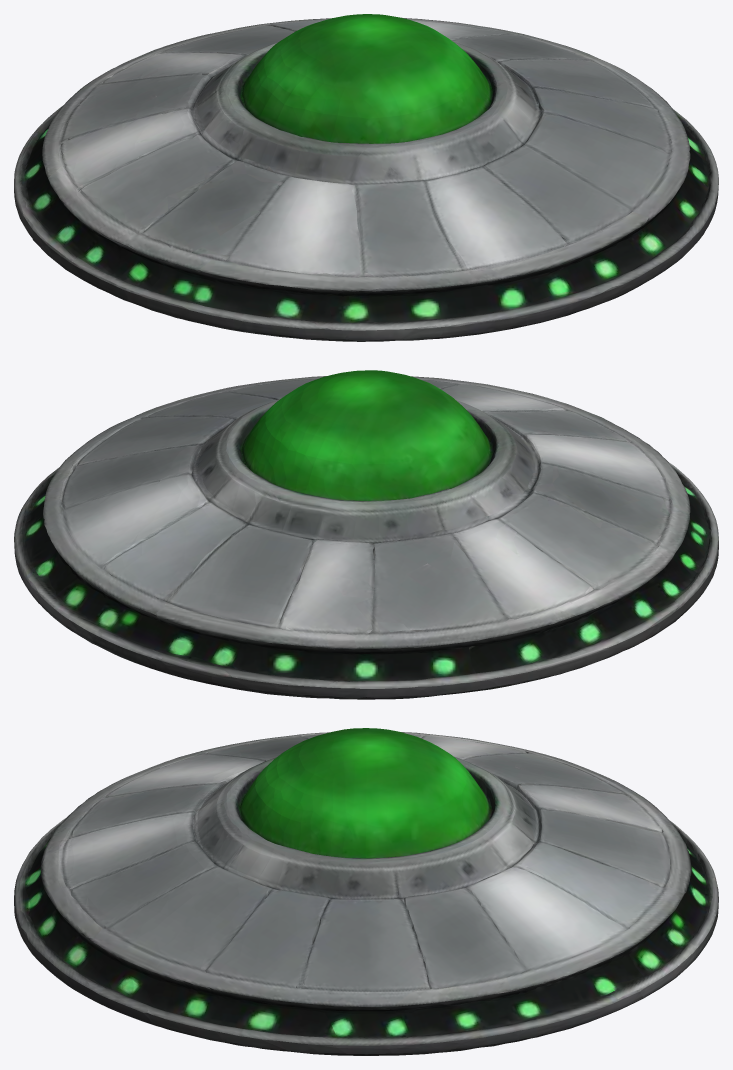
The model's file is ufo.glb.
3 views of the same model, one above another, from view 1: azimuth 30°, elevation 25°; view 2: azimuth 150°, elevation 25°; view 3: azimuth 270°, elevation 25° (orthographic).
Parts seen in each view (by area): view 1: geometry_0; view 2: geometry_0; view 3: geometry_0.
Boxes of the visible parts, bbox=[...] form: geometry_0: bbox=[14, 14, 718, 341]; geometry_0: bbox=[14, 370, 718, 699]; geometry_0: bbox=[14, 728, 718, 1055].
Bounding box in the file's own units: 0.9997 × 0.2588 × 1.
Materials: 1 (1 with a texture image).
